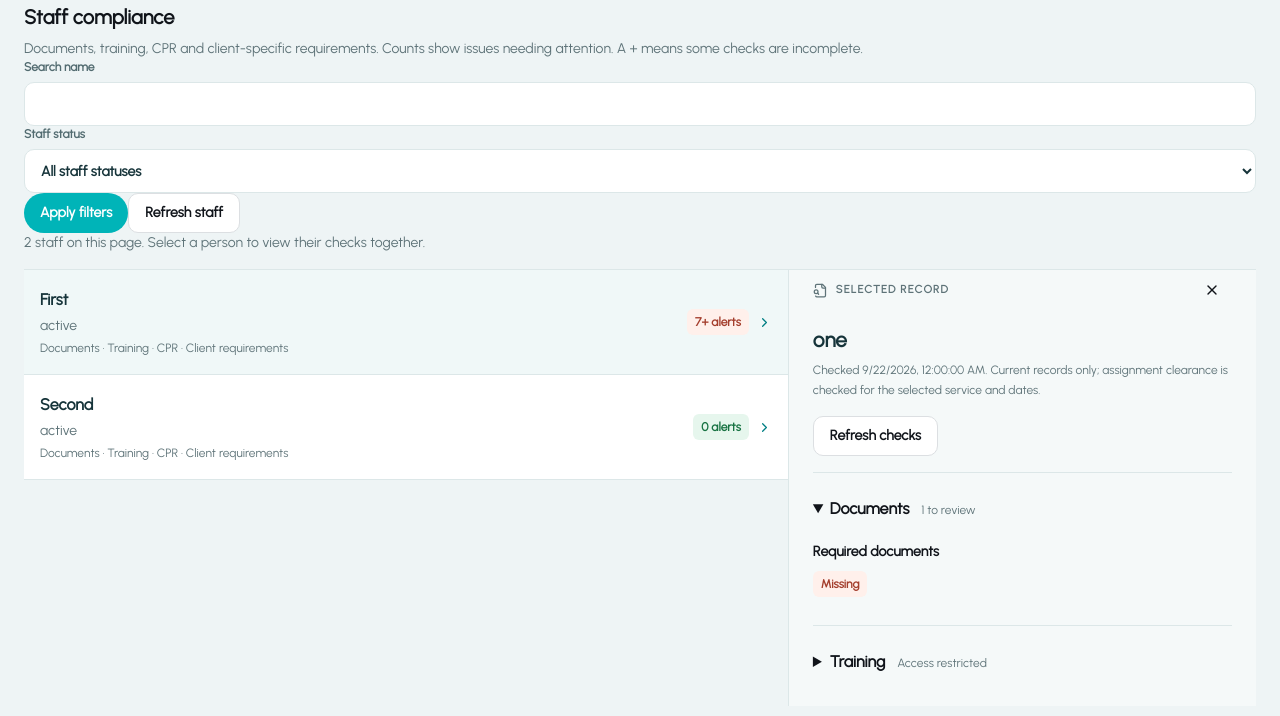
Test: shows alert totals beside staff names and paginates staff records
The width and height of the screenshot is (1280, 716).
Later steps or results of the test are not shown.
Expected: the element named "At least 7 alerts; checks incomplete" is shown, [687, 309, 749, 335]
Expected: the element labelled "0 alerts" is shown, [693, 414, 749, 440]
Click the button with aria-label "Review Second". click: (67, 405)
box: [24, 375, 788, 480]
(page scrolled)
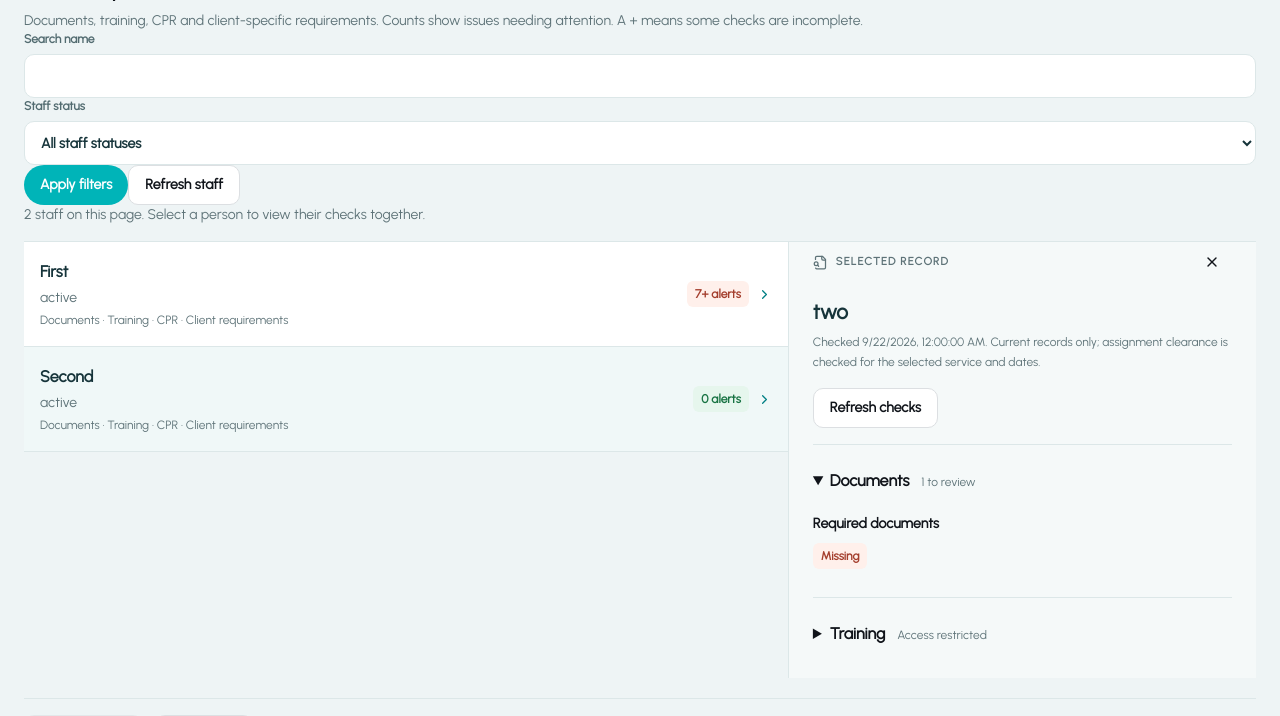
Expected: the element named "Second details" is shown, [788, 242, 1256, 678]
